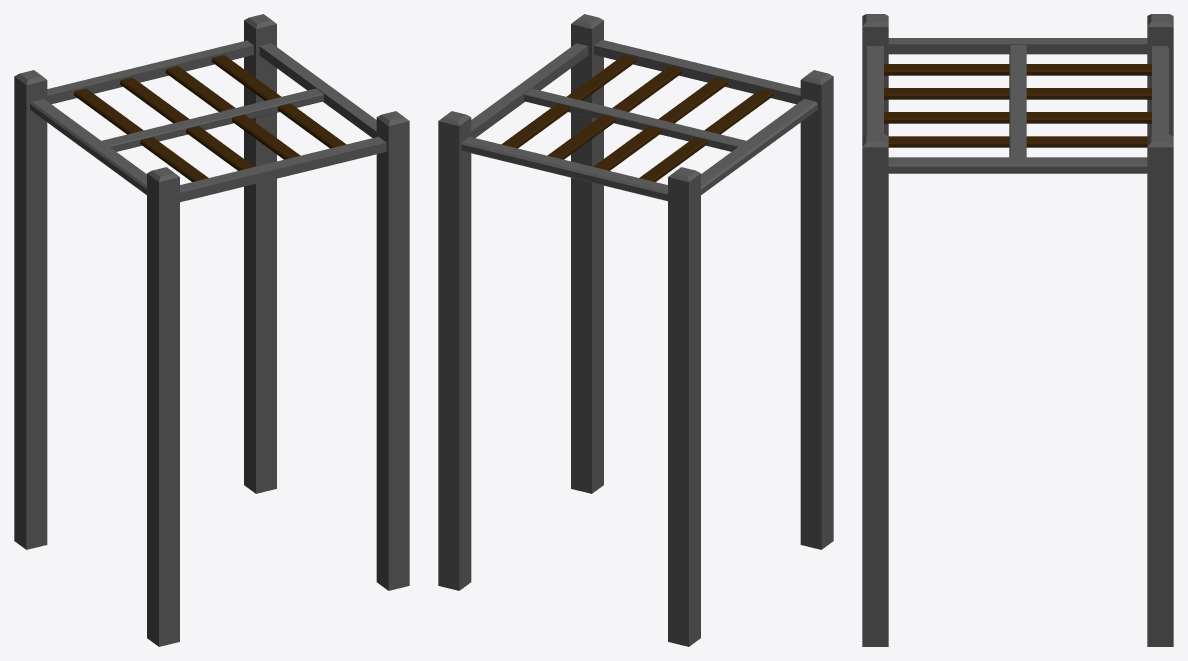
Rendered from Crate_Shelf.fbx.
The picture shows the model from 3 angles, left to right: view 1: azimuth 30°, elevation 25°; view 2: azimuth 150°, elevation 25°; view 3: azimuth 270°, elevation 25°; orthographic projection. The views are drawn at different scales.
Parts seen in each view (by area): view 1: Shelf; view 2: Shelf; view 3: Shelf.
Boxes of the visible parts, box(x1,y1,x2,y2) form: Shelf: box(14, 14, 409, 646); Shelf: box(438, 14, 833, 646); Shelf: box(862, 14, 1173, 646).
Size of the model in its own units: 2.49 by 4.44 by 2.49.
